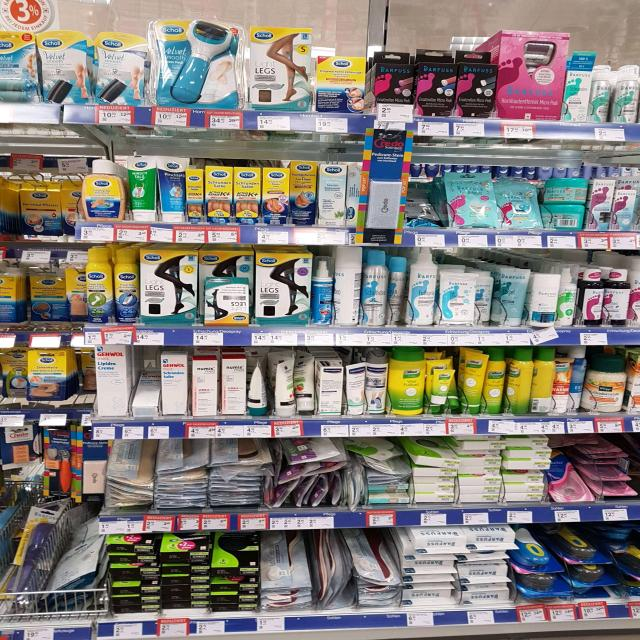unorganised: (20, 179, 85, 232), (543, 177, 586, 230), (276, 359, 314, 416), (428, 361, 463, 414), (408, 177, 444, 228), (132, 355, 160, 412), (248, 363, 272, 417), (2, 347, 28, 396), (320, 364, 344, 415), (571, 350, 589, 414), (475, 273, 496, 327), (72, 350, 94, 398)
